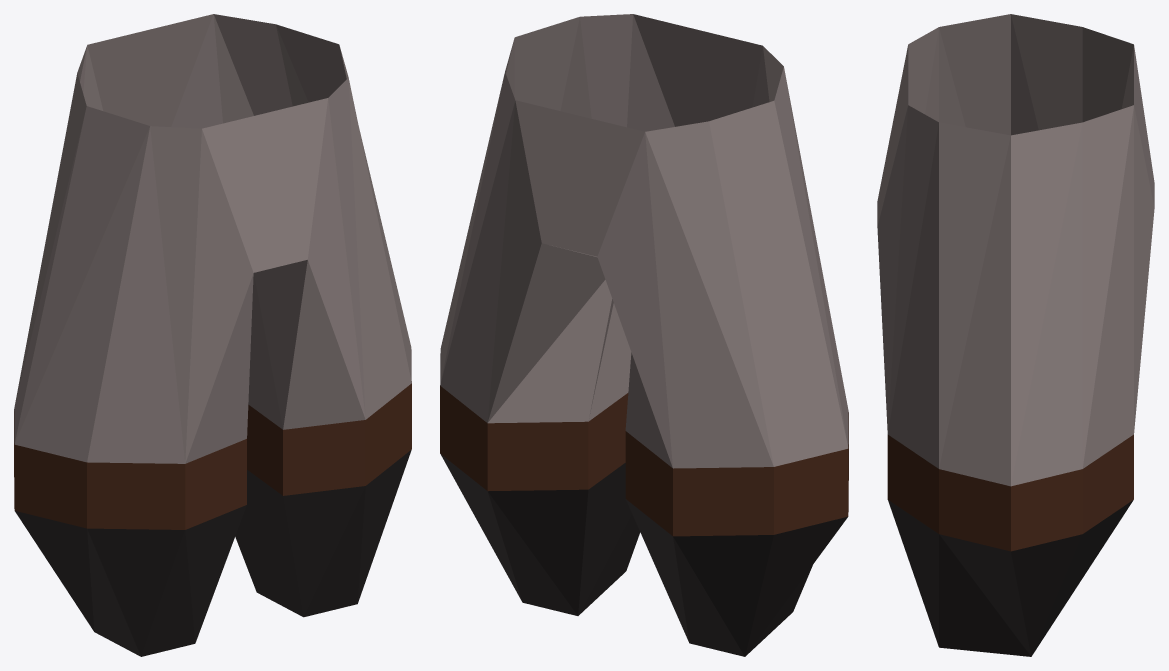
Rendered from npc_world_mountain_dwarf_1.obj.
3 views of the same model, side by side, from view 1: azimuth 30°, elevation 25°; view 2: azimuth 150°, elevation 25°; view 3: azimuth 270°, elevation 25° (orthographic). The views are drawn at different scales.
Size of the model in its own units: 0.3438 by 0.4453 by 0.2109.
